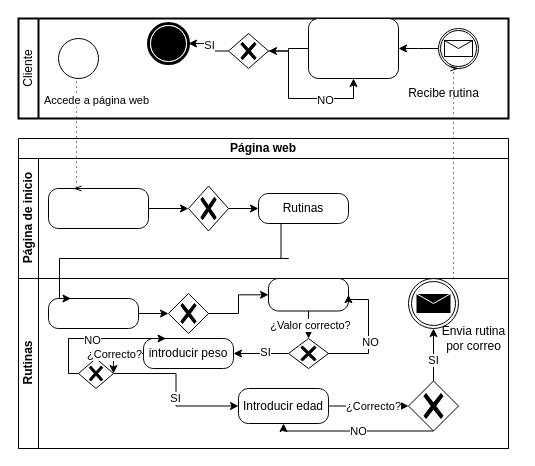
Image size: 535x466. Some labels were removed from this diagram. Here are the shapes that lost their labels. From the top down, the centre of each, then its label:
At point 353,48: "Verifica si llega".
At point 98,208: "Muestra menu".
At point 93,313: "Selecionar rutina".
At point 308,294: "Introducir altura".
